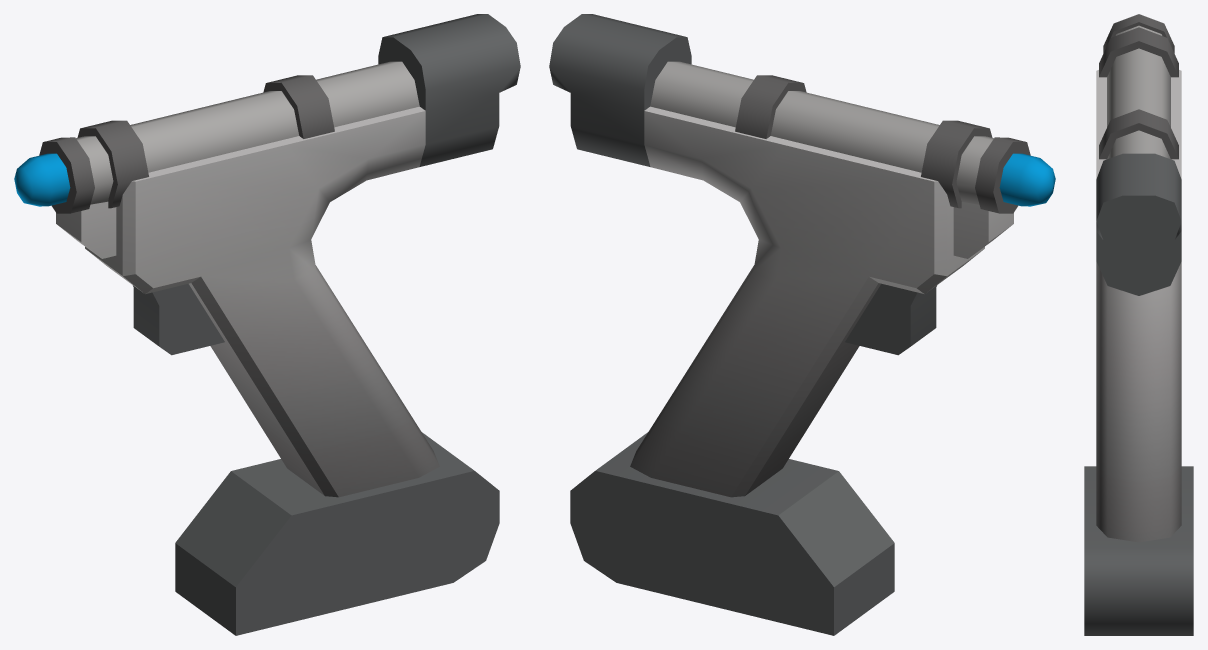
The model's file is Scaner_003.fbx.
3 views of the same model, side by side, from view 1: azimuth 30°, elevation 25°; view 2: azimuth 150°, elevation 25°; view 3: azimuth 270°, elevation 25° (orthographic). The views are drawn at different scales.
Visible parts, largest first — view 1: Scaner_003; view 2: Scaner_003; view 3: Scaner_003.
Part boxes in pixels (box(x1,y1,x2,y2)): Scaner_003: box(14, 14, 520, 635); Scaner_003: box(549, 14, 1055, 635); Scaner_003: box(1084, 14, 1193, 635).
Size of the model in its own units: 28.17 by 6.17 by 29.29.
